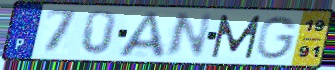0: (80, 9, 119, 58)
7: (43, 8, 77, 57)
A: (115, 10, 169, 60)
G: (255, 15, 300, 61)
M: (210, 13, 264, 60)
N: (162, 11, 215, 60)
